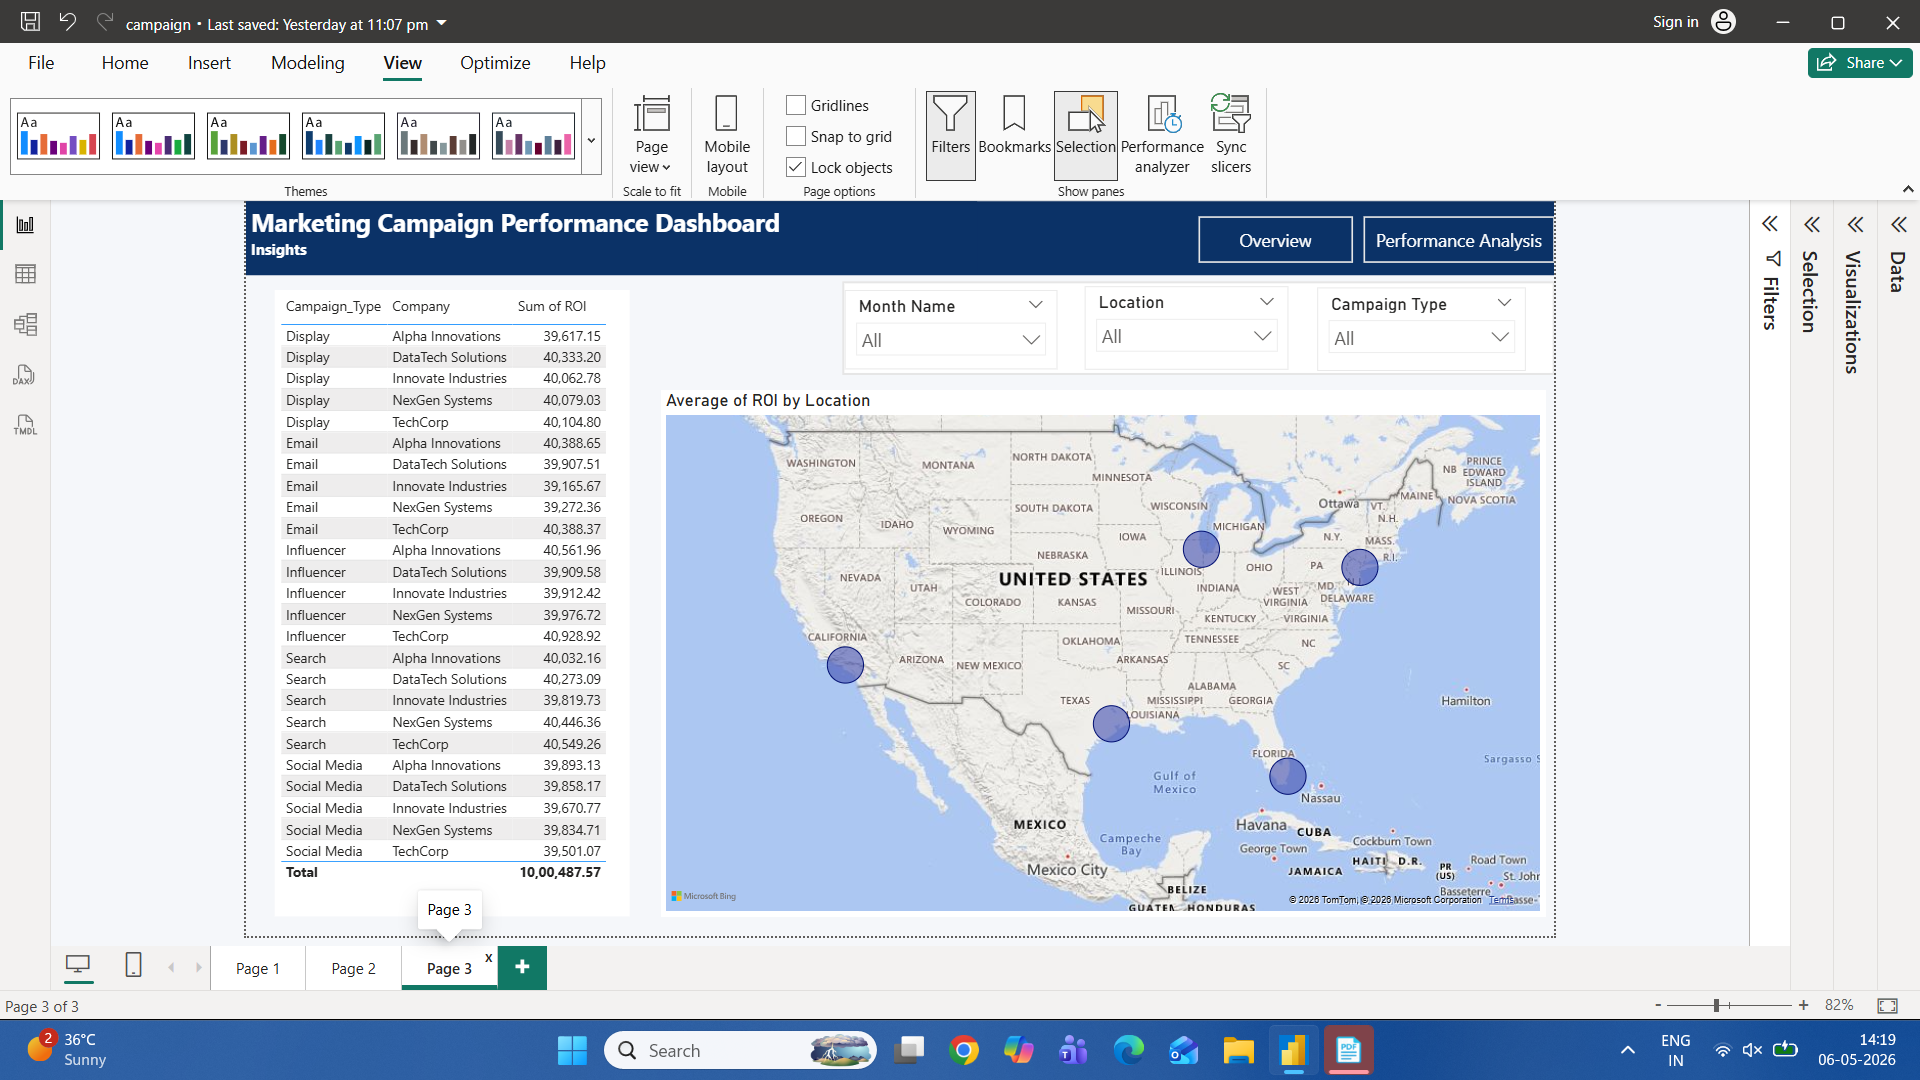

The dashboard page shown, as its layout file describes it:
{"tool":"powerbi","page":{"name":"Page 3","canvas":[1280,720],"ordinal":2},"visuals":[{"type":"actionButton","box":[931.4,15.9,151.5,45.2],"z":0,"group":"g2"},{"type":"shape","box":[583.3,79.5,697,91.7],"z":0,"group":"g1"},{"type":"tableEx","fields":{"Values":["cleaned_marketing_data.Campaign_Type","cleaned_marketing_data.Company","Sum(cleaned_marketing_data.ROI)"]},"box":[28.1,88,347.3,612.6],"z":0},{"type":"actionButton","box":[1092.8,15.6,187.5,45.2],"z":1000,"group":"g2"},{"type":"slicer","fields":{"Values":["cleaned_marketing_data.Location"]},"box":[820.2,83.8,199.3,81.9],"z":1000,"group":"g1"},{"type":"map","fields":{"Category":["cleaned_marketing_data.Location"],"Size":["Avg(cleaned_marketing_data.ROI)"]},"box":[406,185.9,864.5,514.8],"z":1000},{"type":"textbox","box":[0,1.2,714.8,72.1],"z":2000,"group":"g2"},{"type":"group","id":"g1","title":"Group 1","box":[583.3,79.5,697,91.7],"z":2000},{"type":"slicer","fields":{"Values":["cleaned_marketing_data.Month_Name"]},"box":[585.4,88.3,207.9,77.9],"z":2000,"group":"g1"},{"type":"group","id":"g2","title":"Group 2","box":[0,1.2,1280.3,72.1],"z":3000},{"type":"slicer","fields":{"Values":["cleaned_marketing_data.Campaign_Type"]},"box":[1047.6,85,204.2,81.9],"z":3000,"group":"g1"}]}

Visuals, with their boxes on the page's 1280x720 design canvas (x1, y1, x2, y2). These are canvas units, not pixel positions in the 1920x1080 screenshot, which may show the page scaled, cropped or inside an application window:
actionButton: [931,16,1083,61]
shape: [583,80,1280,171]
tableEx - cleaned_marketing_data.Campaign_Type x cleaned_marketing_data.Company: [28,88,375,701]
actionButton: [1093,16,1280,61]
slicer - cleaned_marketing_data.Location: [820,84,1020,166]
map - cleaned_marketing_data.Location x Avg(cleaned_marketing_data.ROI): [406,186,1270,701]
textbox: [0,1,715,73]
"Group 1" group: [583,80,1280,171]
slicer - cleaned_marketing_data.Month_Name: [585,88,793,166]
"Group 2" group: [0,1,1280,73]
slicer - cleaned_marketing_data.Campaign_Type: [1048,85,1252,167]
